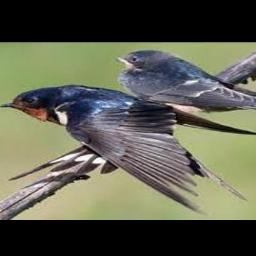Swallow: (0, 85, 256, 214), (118, 49, 256, 108)
